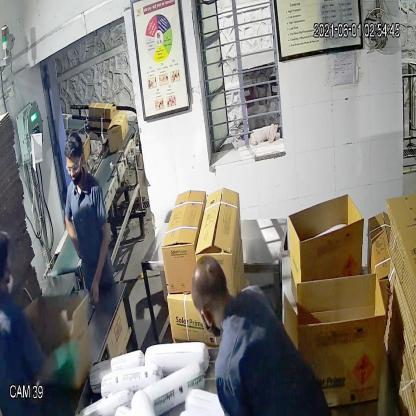goggles: (64, 157, 86, 179)
